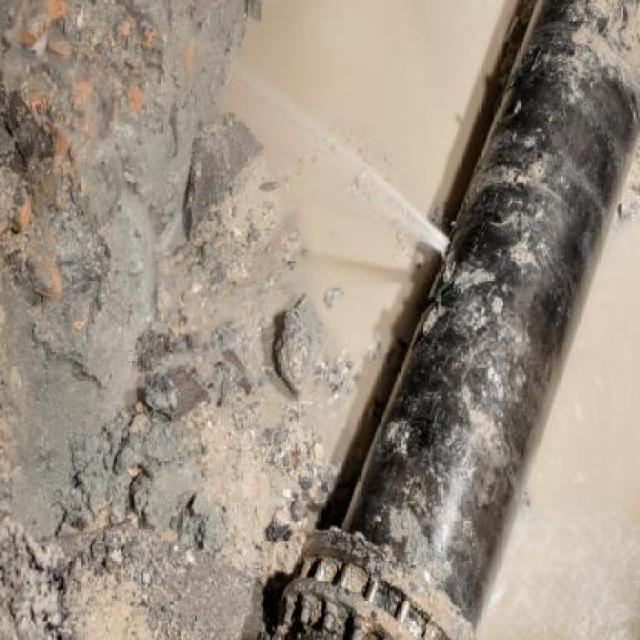pipe burst: (238, 64, 460, 264)
water accumulation: (214, 1, 640, 640)
